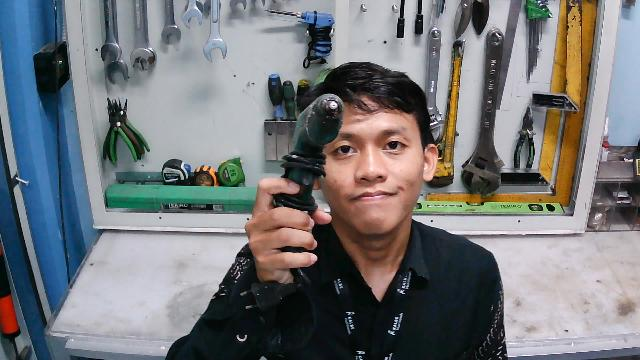gun_lem: (244, 92, 349, 276)
